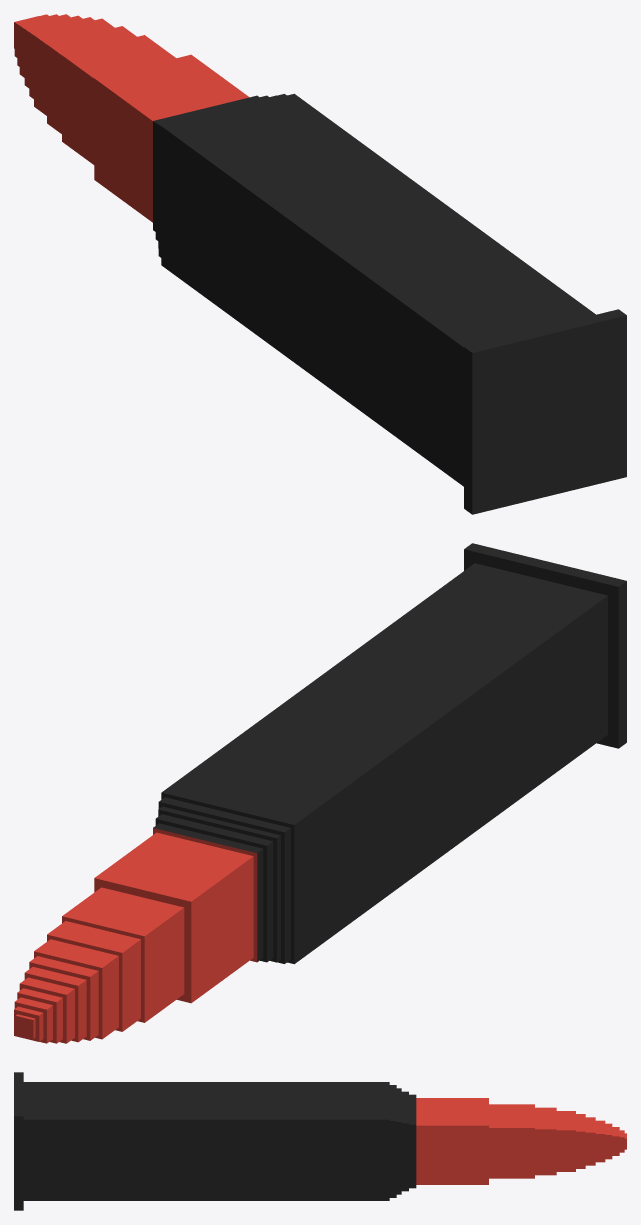
File: BaleSpecialProyectile.fbx
3 renders of one model, top to bottom at view 1: azimuth 30°, elevation 25°; view 2: azimuth 150°, elevation 25°; view 3: azimuth 270°, elevation 25°, orthographic. The views are drawn at different scales.
Visible parts, largest first — view 1: BaleUltimate; view 2: BaleUltimate; view 3: BaleUltimate.
Boxes of the visible parts, <box> form: BaleUltimate: <box>14,14,626,514</box>; BaleUltimate: <box>14,543,626,1043</box>; BaleUltimate: <box>14,1072,626,1210</box>.
Size of the model in its own units: 14.21 by 83.62 by 14.21.
